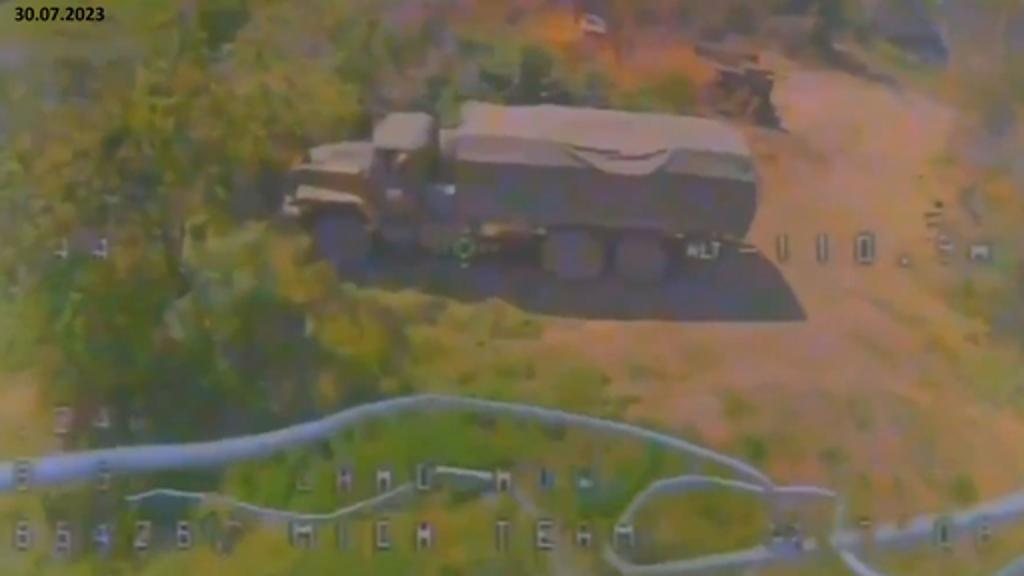TRUCK: (274, 82, 766, 296)
